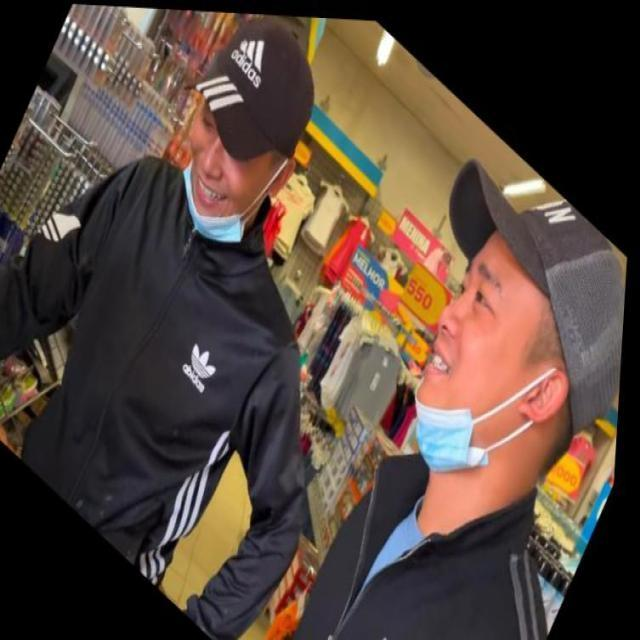hairnet: (393, 240, 555, 500), (161, 114, 271, 260)
